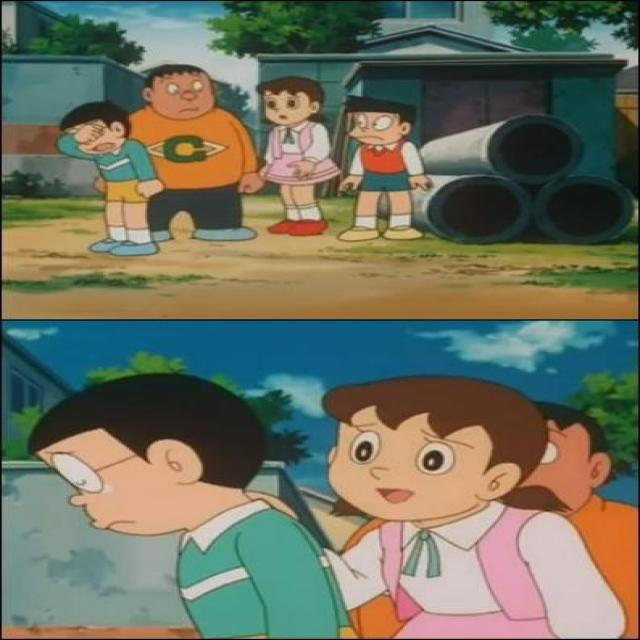jaian: (137, 62, 222, 119)
nobita: (28, 374, 280, 543)
shizuka: (313, 372, 548, 531), (258, 73, 326, 131)
suneo: (337, 93, 413, 149)
